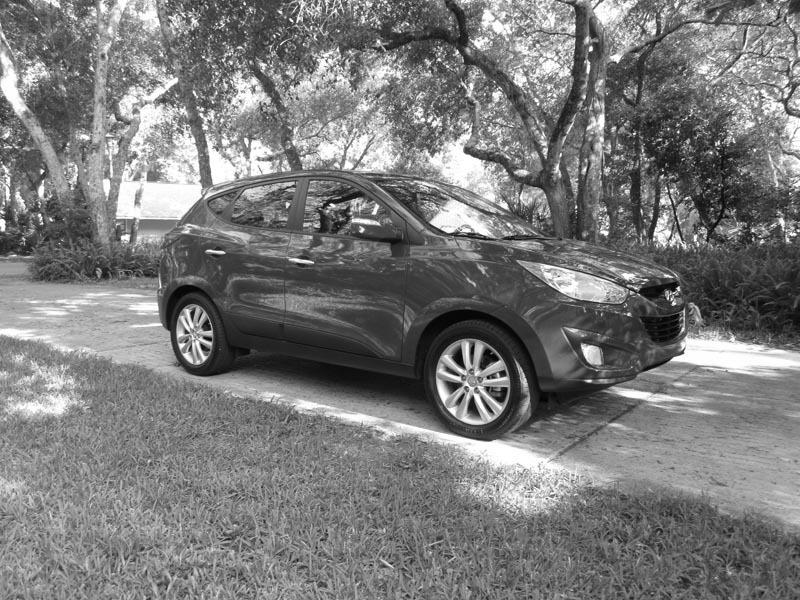car: (157, 172, 693, 441)
